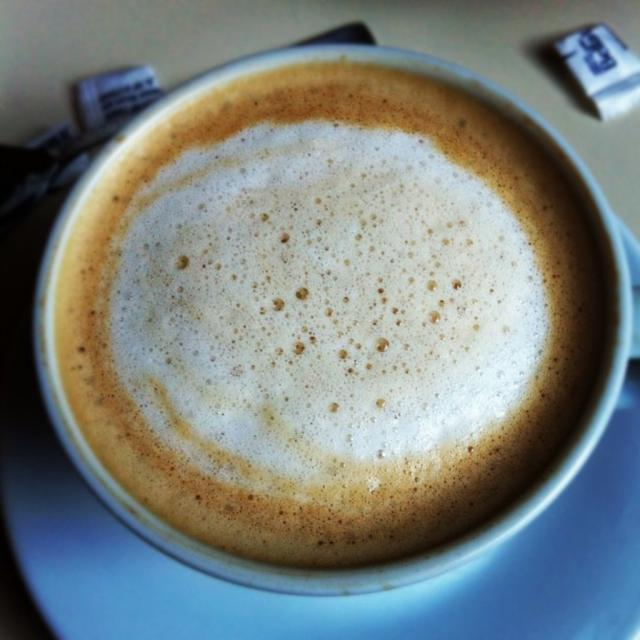Coffee: (50, 56, 622, 578)
